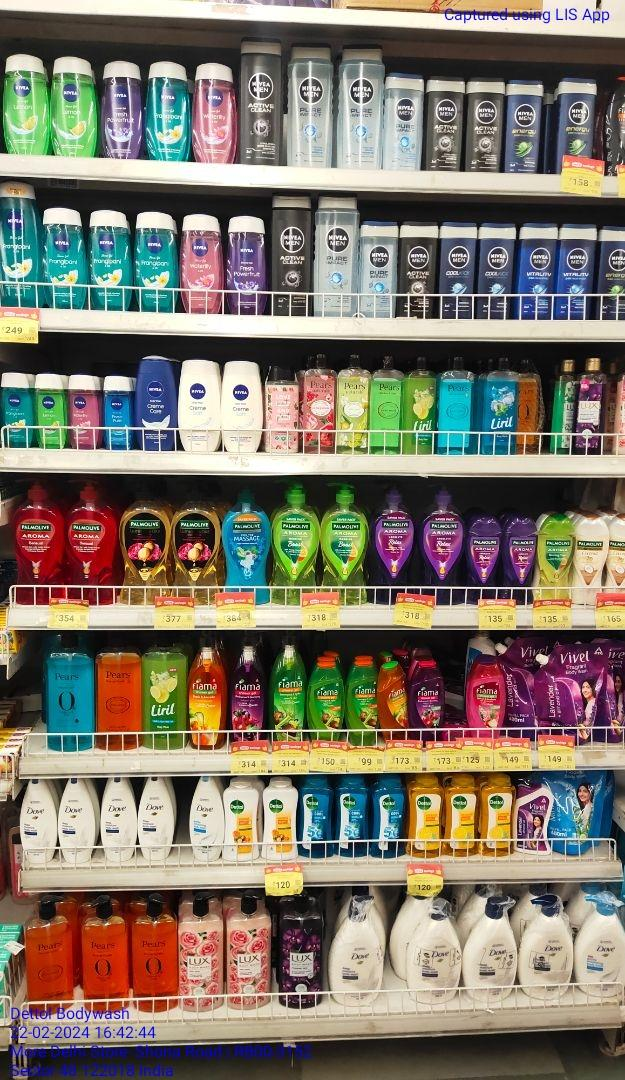Dettol_Bodywash_Cool: (338, 776, 371, 856), (302, 777, 333, 859), (377, 779, 408, 857)
Dettol_Bodywash_Refresh: (482, 778, 517, 858), (410, 776, 444, 858), (446, 776, 478, 857)
Dettol_Nourish_Body_Wash_250ML: (264, 778, 299, 861), (224, 781, 258, 861)
Dove_Deep_Moisture_Body_Wash_250ML: (101, 773, 137, 861), (21, 776, 55, 864), (58, 777, 90, 865), (140, 775, 171, 861)
Dove_Gentle_Exfoliating_Body_Wash_250ML: (188, 775, 222, 862)
Fiama_Shower_Gel_Lemongrass_and_Jojoba_250ML: (307, 664, 343, 741), (350, 659, 376, 745)
Fiama_Shower_Gel_Patchouli_and_Macadamia_250ML: (467, 661, 503, 739)
Lux_Black_Orchid_Scent_and_Juniper_Oil_Body_Wash_245ML: (574, 357, 603, 455)
Nivea_Creme_Care_Body_Wash_250ML: (138, 359, 175, 453)
Nivea_Creme_Soft_Body_Wash_250ML: (178, 358, 216, 457), (221, 360, 259, 450)
Nivea_Shower_Gel_Frangipani_and_Oil_250ML: (0, 175, 42, 312), (42, 206, 91, 311), (135, 211, 180, 311), (145, 60, 188, 160), (91, 209, 132, 311)
Nivea_Shower_Gel_Fresh_Powerfruit_250ML: (225, 214, 265, 315), (100, 63, 140, 160)
Nivea_Shower_Gel_Lemon_and_Oil_250ML: (1, 51, 48, 154), (48, 55, 94, 158)
Nivea_Shower_Gel_Waterlily_and_Oil_250ML: (192, 61, 237, 166), (183, 214, 223, 316)
Palmolive_Aroma_Morning_Tonic_Shower_Gel_250ML: (535, 515, 573, 598)
Palmolive_Aroma_Relax_250ML: (466, 519, 498, 598), (504, 516, 534, 593)
Palmolive_Coconut_Joy_Exfoliating_Body_Wash_250ML: (572, 517, 606, 602)
Pears_Naturale_Aloe_Vera_Body_Wash_250ML: (334, 350, 371, 458)
Pears_Pure_Glycerin_and_Lemon_Flower_Extracts_Body_Wash_250ML: (372, 350, 401, 455)
